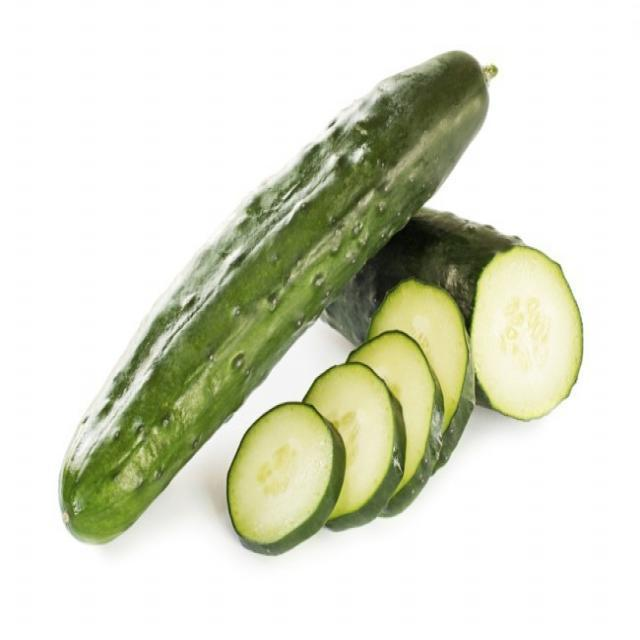cucumber: (21, 0, 586, 569), (266, 136, 592, 435), (178, 260, 504, 546), (294, 304, 470, 540), (208, 386, 372, 590), (279, 338, 426, 558)
